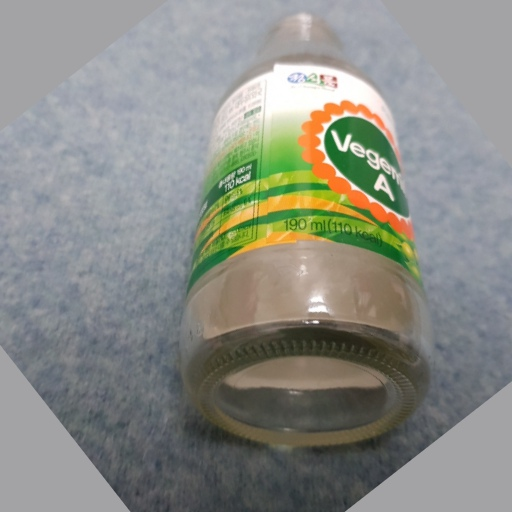Glass_4: (177, 11, 432, 450)
